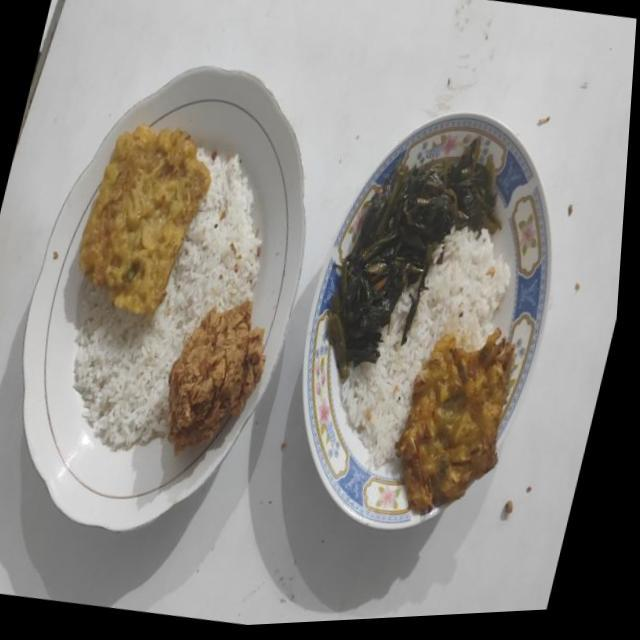nasi_putih: (74, 147, 260, 450), (342, 228, 508, 467)
tumis_kangkung: (326, 136, 499, 379)
